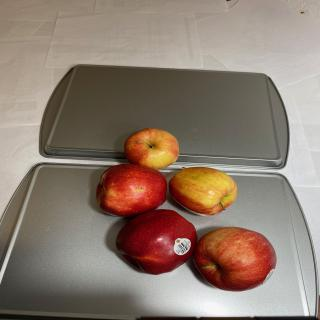Apple: (192, 226, 276, 292), (115, 209, 198, 275), (96, 163, 168, 217), (168, 166, 238, 216), (124, 128, 179, 170)
